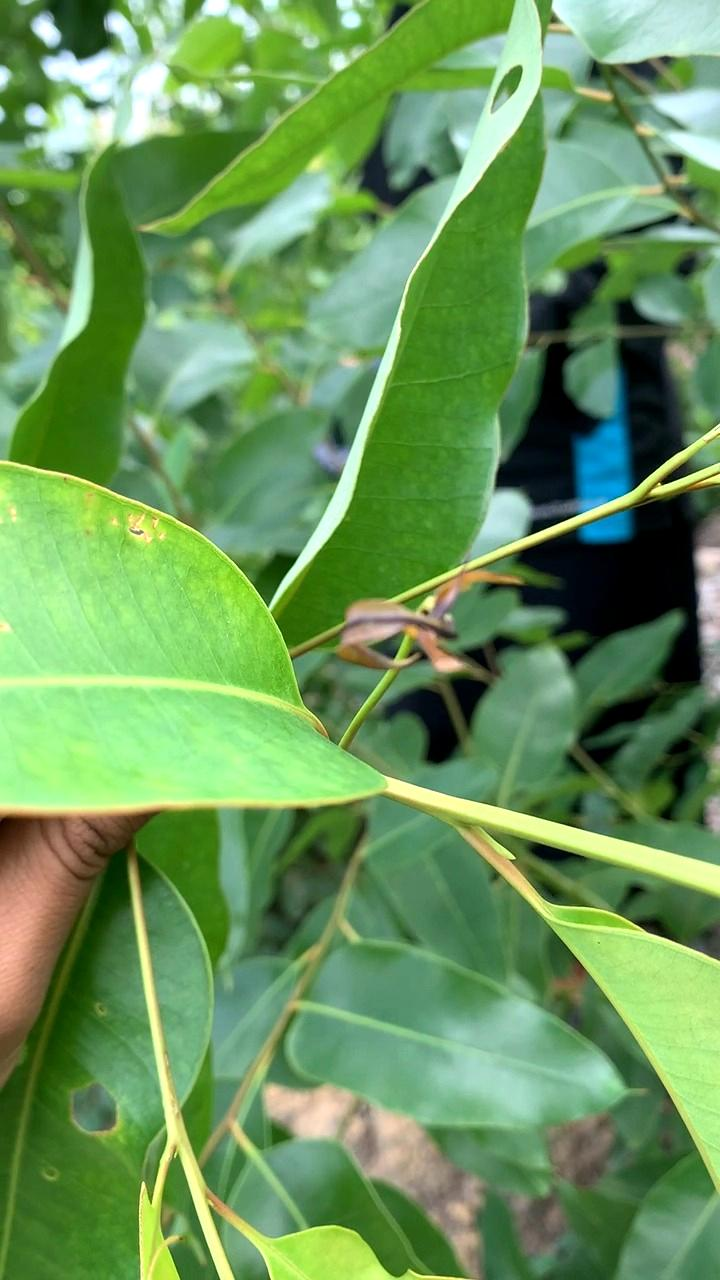Helopeltis-Withered Sprout: (336, 563, 531, 687)
